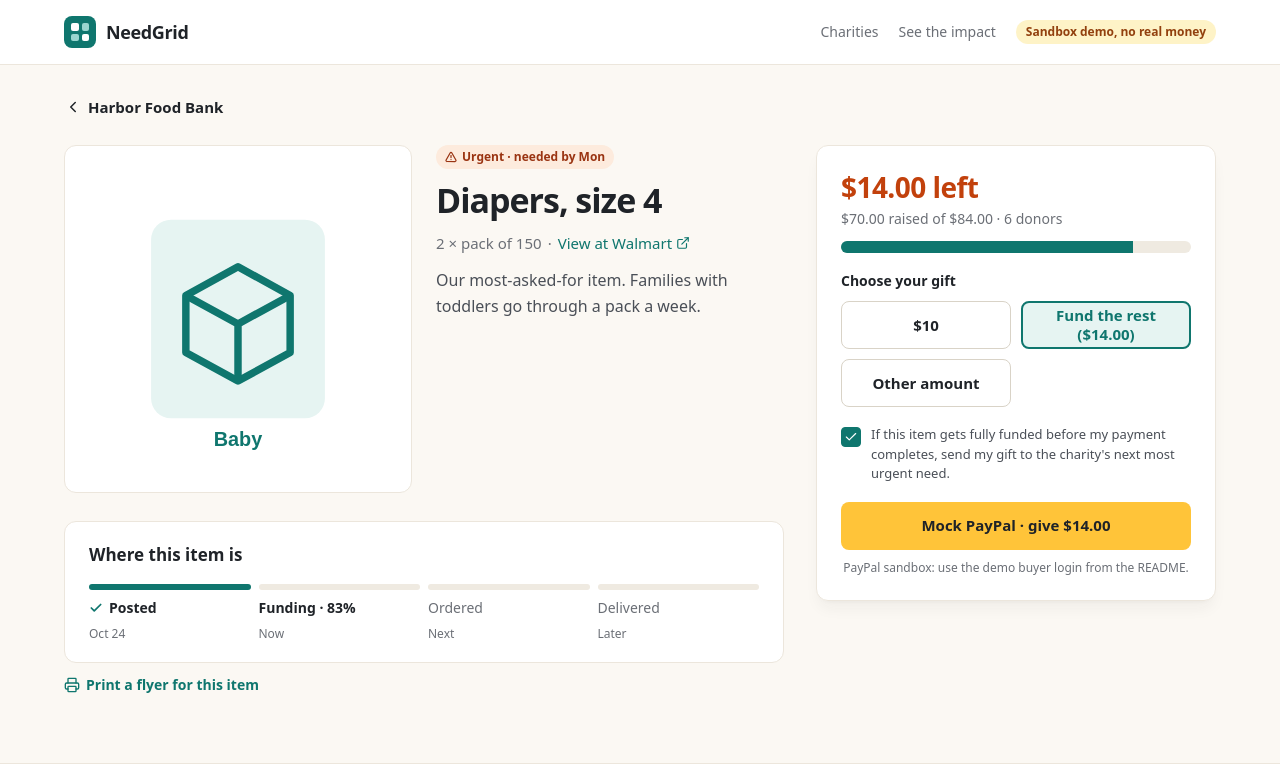
DonatePanel with the mock PayPal button › declined card without a restart (confirming again after an error): says so and starts over
The width and height of the screenshot is (1280, 784).
Click the button "Mock PayPal · give $14.00". click: (1016, 526)
box: [841,502,1191,550]
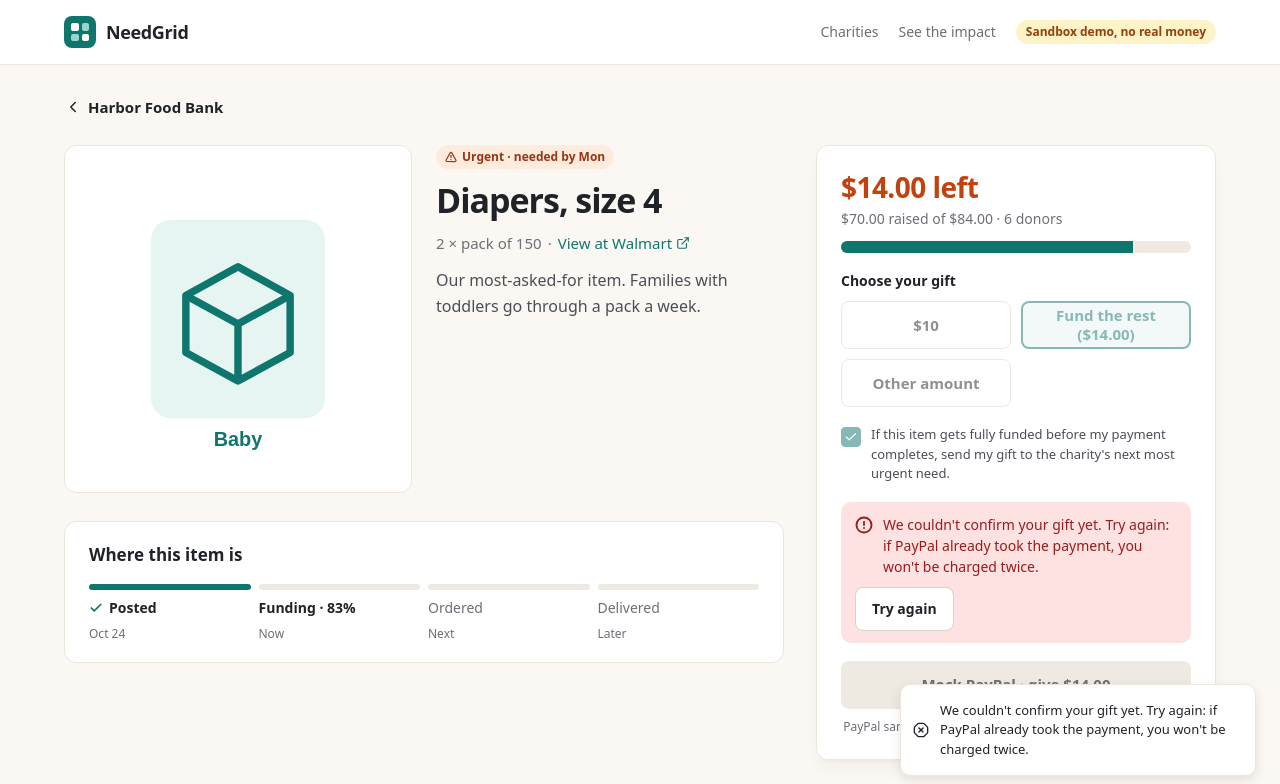
Click the button "Try again". click: (904, 608)
box: [855,586,954,630]
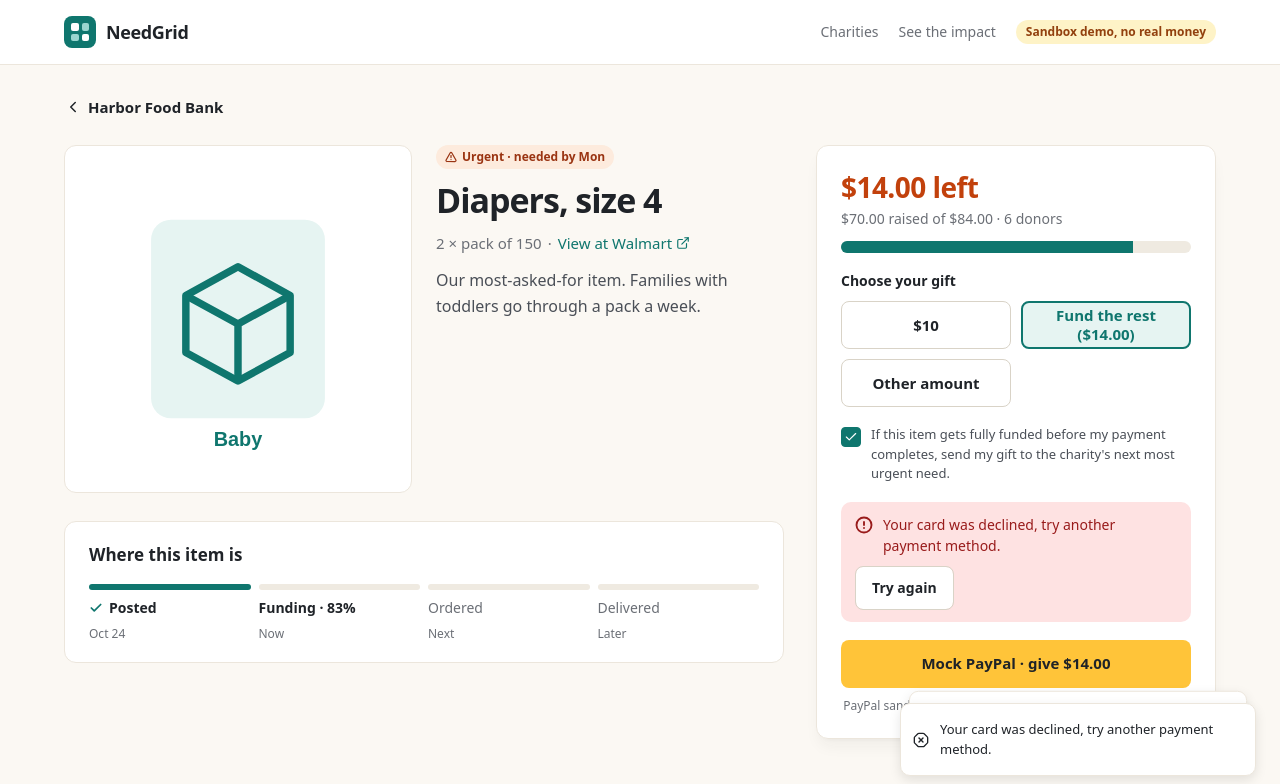
Expected: the message shows "Your card was declined, try another payment method.", [883,514,1115,554]
Click the button "Try again". click: (904, 588)
box: [855,566,954,610]
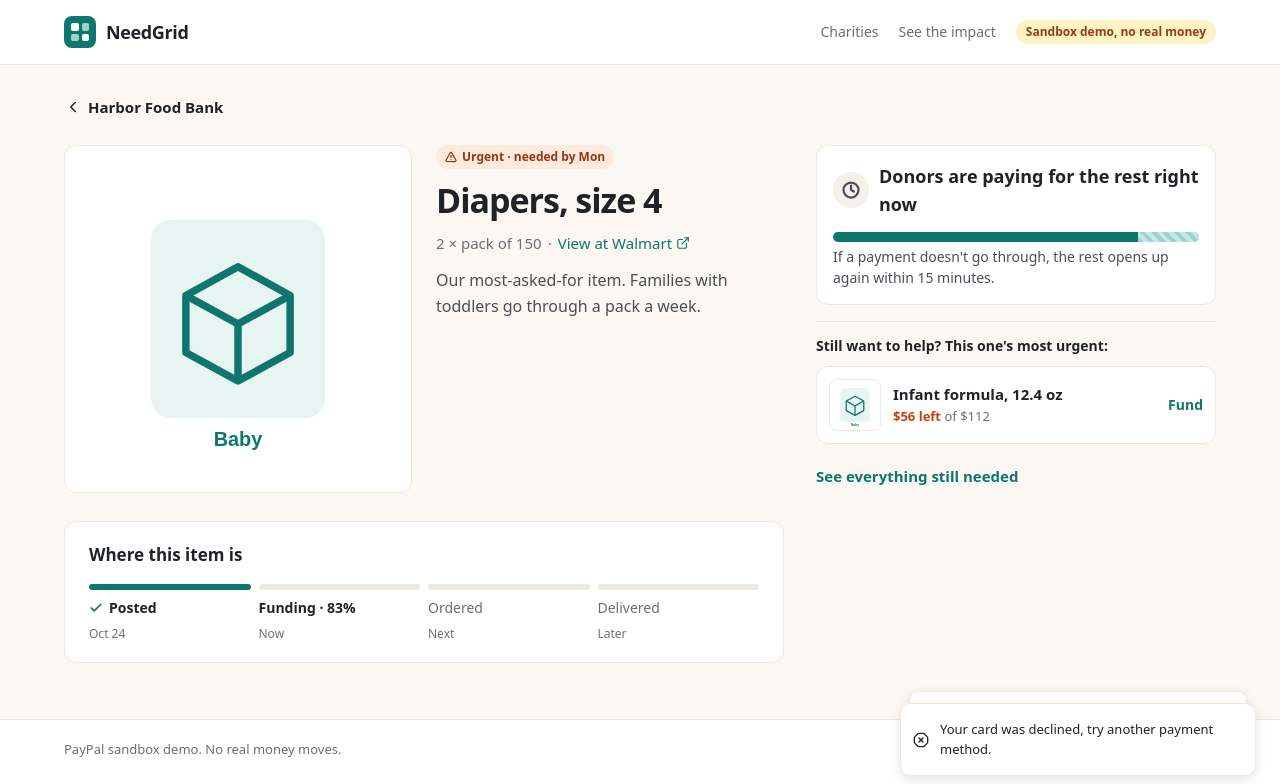
Expected: the message "Your card was declined, try another payment method. Try again" is gone
